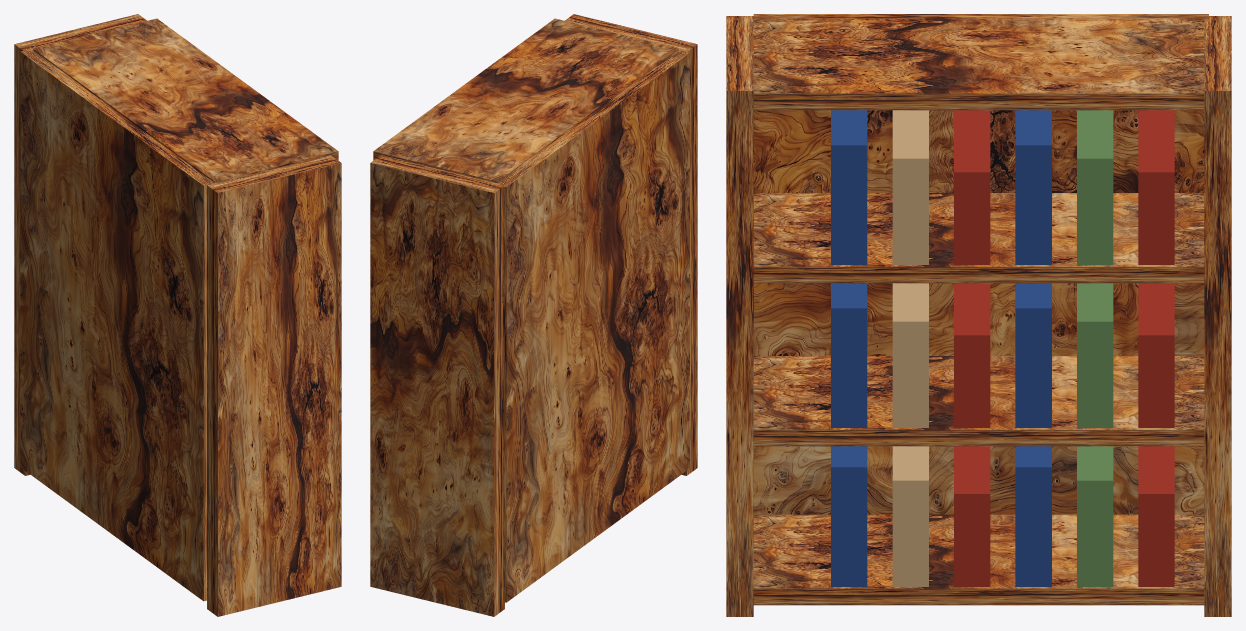
The model's file is bookcase.obj.
3 views of the same model, side by side, from view 1: azimuth 30°, elevation 25°; view 2: azimuth 150°, elevation 25°; view 3: azimuth 270°, elevation 25° (orthographic). The views are drawn at different scales.
Parts seen in each view (by area): view 1: bookcase; view 2: bookcase; view 3: bookcase.
Part boxes in pixels (x1,y1,x2,y2): bookcase: (14, 14, 341, 616); bookcase: (370, 14, 697, 616); bookcase: (726, 14, 1231, 616).
Bounding box in the file's own units: 0.85 × 2.56 × 2.22.
